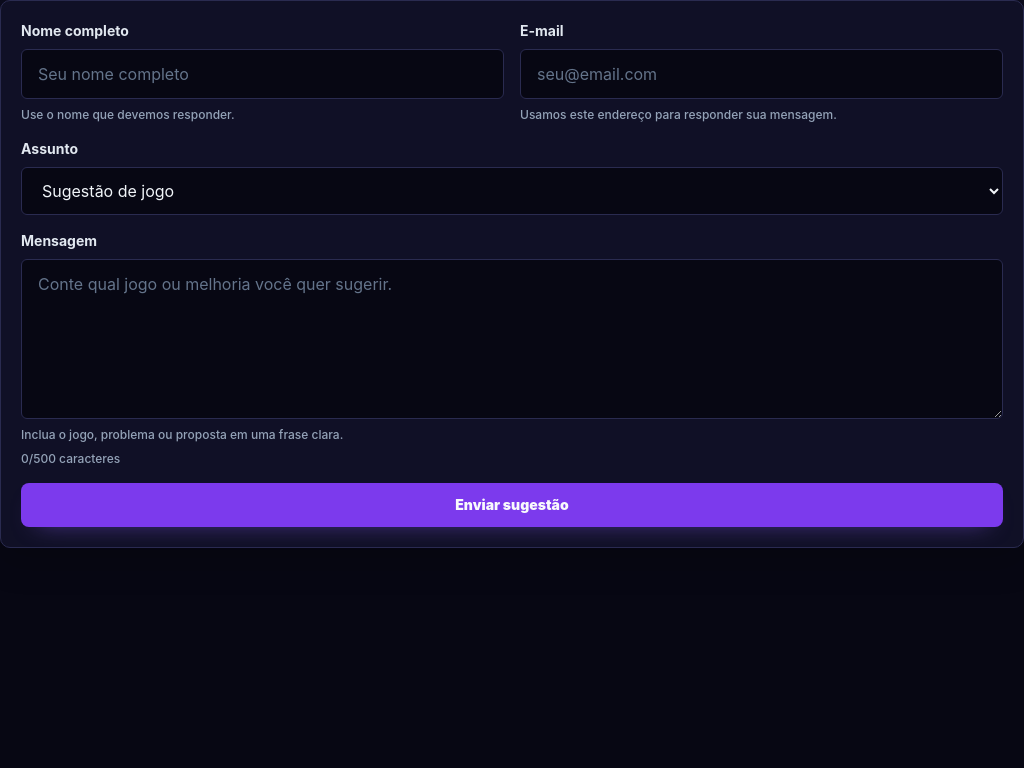
ContactForm › focuses the first invalid field and announces the form error
Click the button "Enviar sugestão".
click(512, 505)  # box [21,483,1003,527]
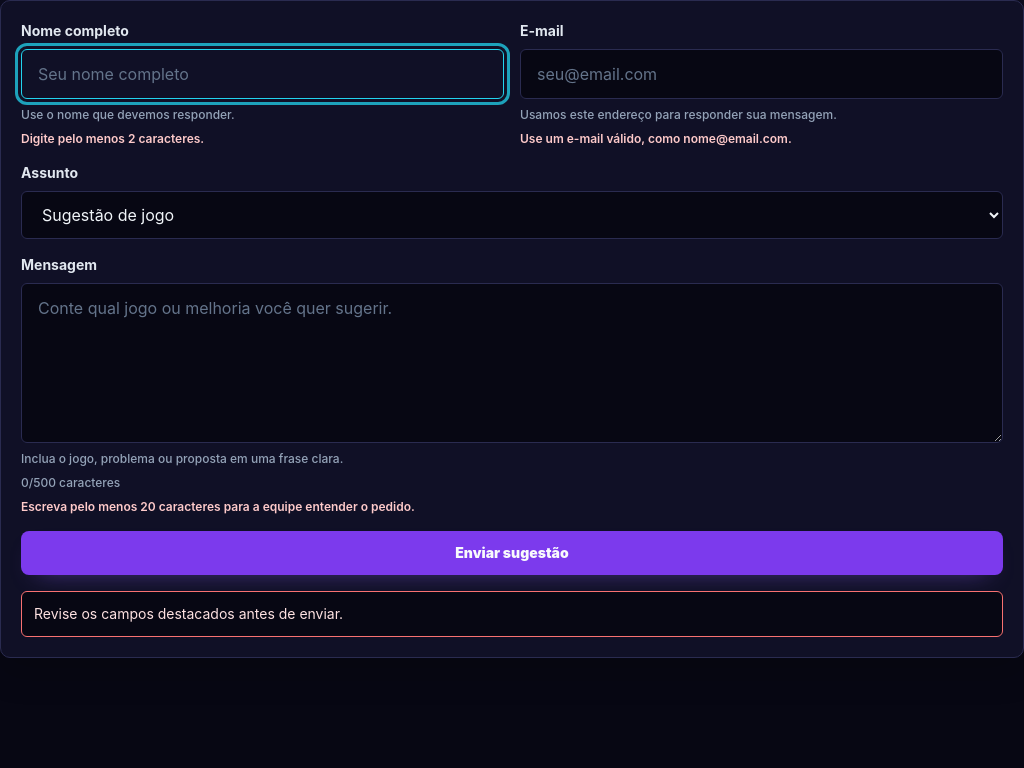
Expected: the message shows "Revise os campos", [34,605,343,622]
